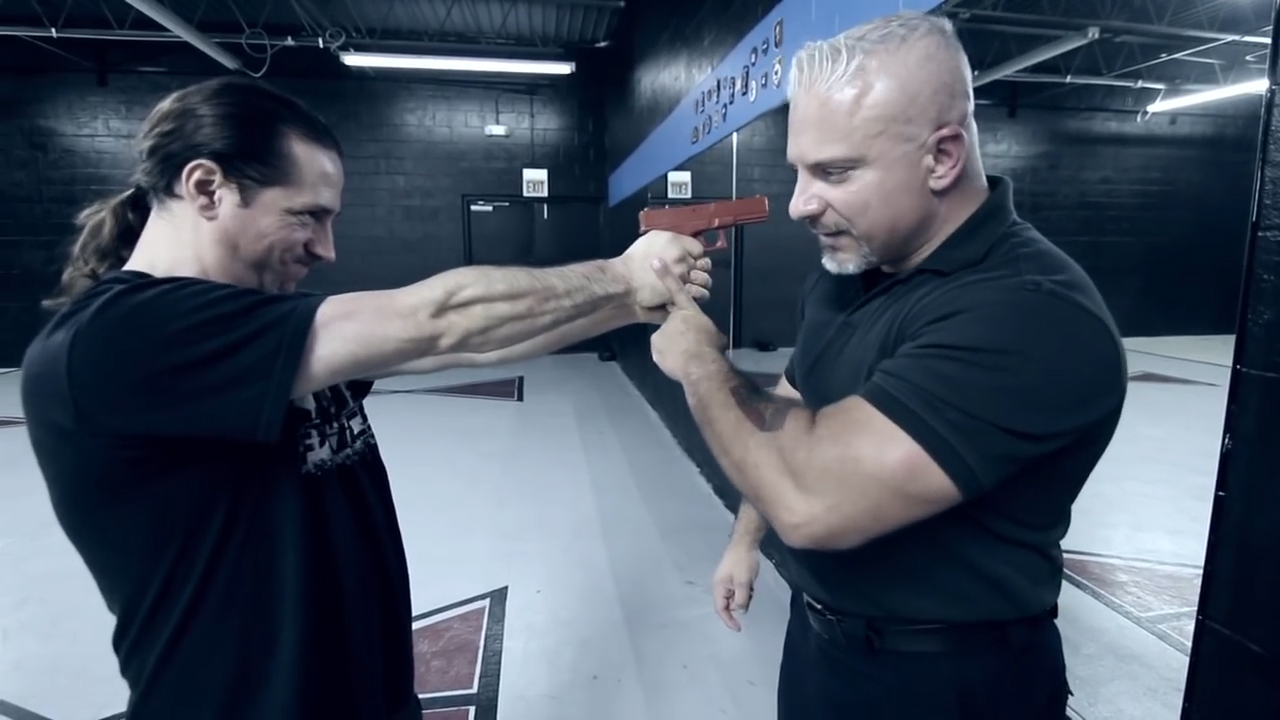pistol: (636, 193, 772, 258)
